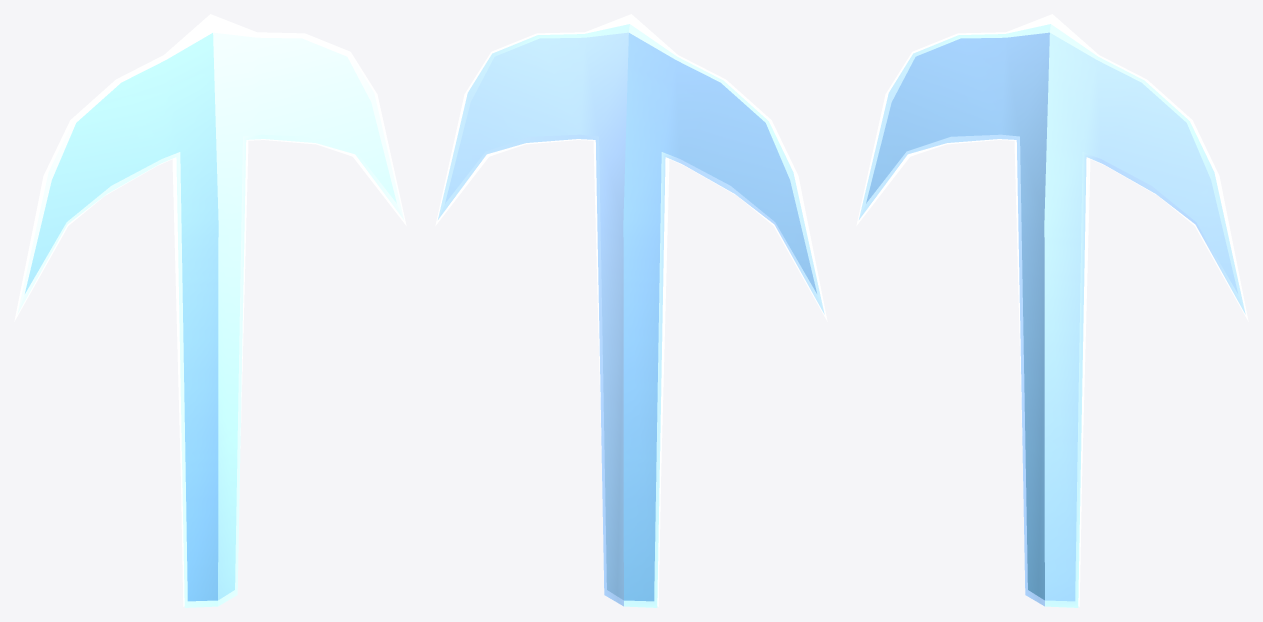
File: steel_blade (14).glb
The picture shows the model from 3 angles, left to right: view 1: azimuth 30°, elevation 25°; view 2: azimuth 150°, elevation 25°; view 3: azimuth 330°, elevation 25°; orthographic projection.
Parts seen in each view (by area): view 1: steel_blade_steel.049; view 2: steel_blade_steel.049; view 3: steel_blade_steel.049.
Boxes of the visible parts, bbox=[...] form: steel_blade_steel.049: bbox=[14, 14, 406, 607]; steel_blade_steel.049: bbox=[435, 14, 827, 607]; steel_blade_steel.049: bbox=[856, 14, 1248, 607].
Bounding box in the file's own units: 8.24 × 11.78 × 0.5834.
Materials: 1 (1 with a texture image).
